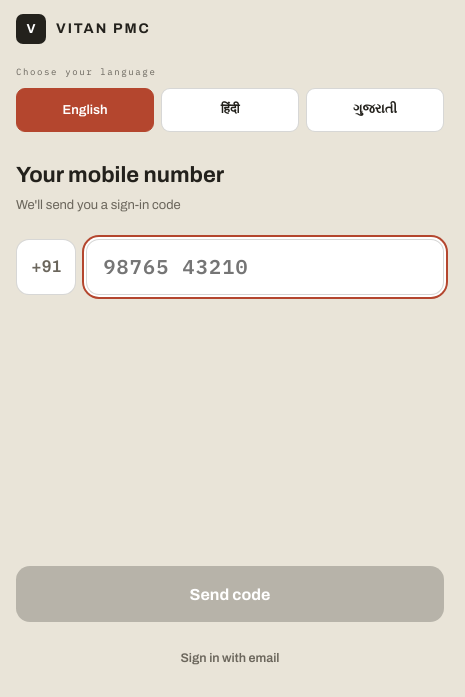
Test: #827 one-screen sign-in › an SMS code keeps its 4 boxes and its text
Type "9876543210" into the field with test id "phone-input".
click(265, 267); type("9876543210")  # box x1=86 y1=239 x2=444 y2=295
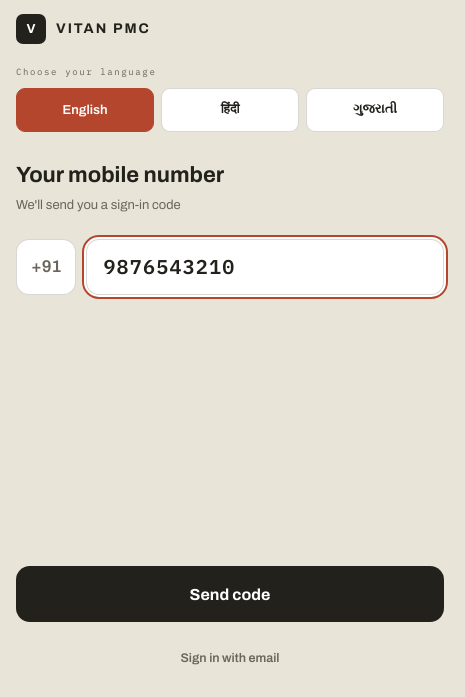
Click the button with test id "send-code".
click(230, 594)  # box x1=16 y1=566 x2=444 y2=622
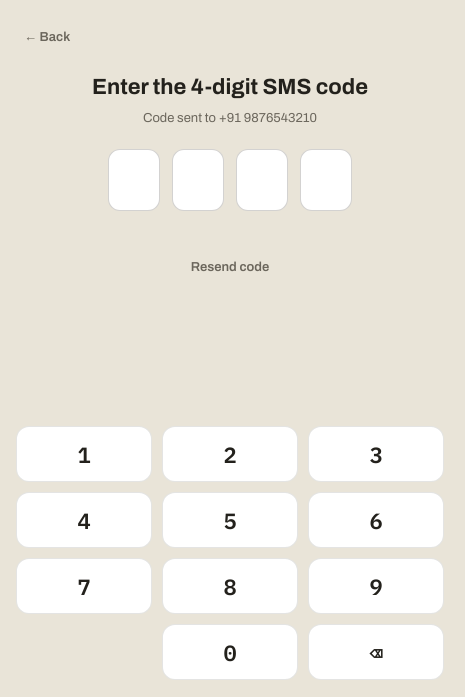
Expected: the text "Enter the 4-digit SMS code" is shown, x1=92 y1=75 x2=368 y2=99
Expected: the text with test id "otp-sent-to" reads "Code sent to +91 9876543210", x1=143 y1=111 x2=317 y2=125
Expected: the number of elements with test id "otp-box" is 4, x1=108 y1=149 x2=160 y2=211; x1=172 y1=149 x2=224 y2=211; x1=236 y1=149 x2=288 y2=211; x1=300 y1=149 x2=352 y2=211
